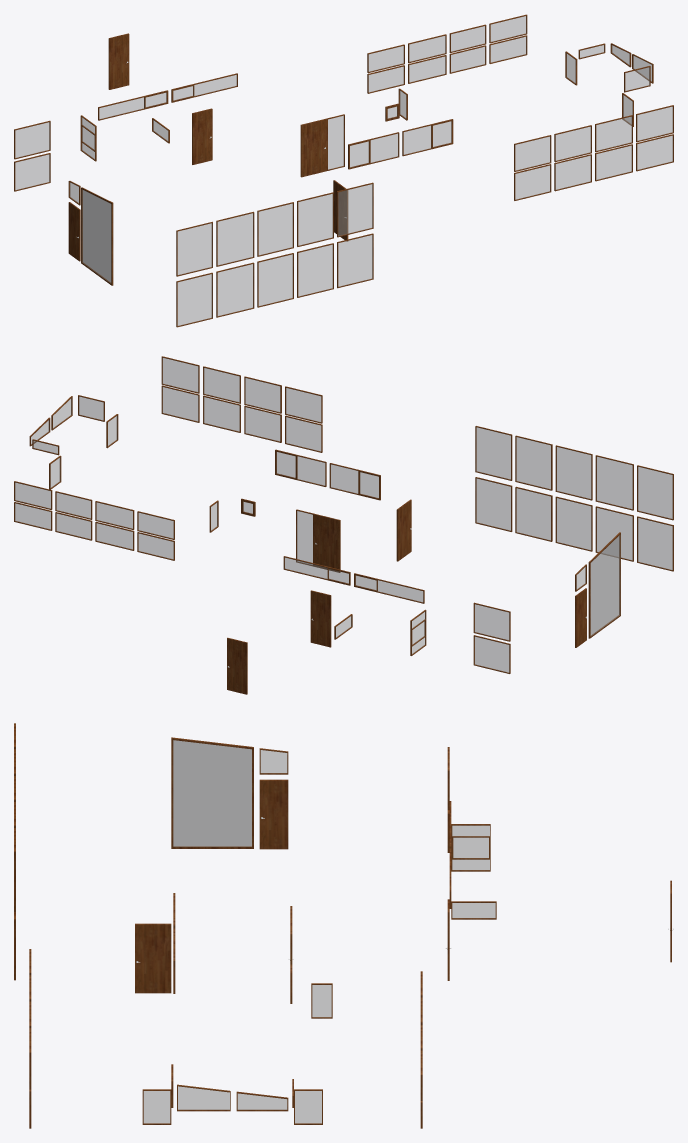
File: puertas y ventanas.glb
3 renders of one model, top to bottom at view 1: azimuth 30°, elevation 25°; view 2: azimuth 150°, elevation 25°; view 3: azimuth 270°, elevation 25°, orthographic. The views are drawn at different scales.
Visible parts, largest first — view 1: Grupo#30 (×8), Grupo#34 (×4), Grupo#32 (×2), Grupo#37 (×4), Grupo#50 (×2), 6585, Grupo#39 (×2), Grupo#35 (×2), Grupo#36 (×2), 6586, Grupo#1 (×2), Grupo#3 (×2) (+9 smaller); view 2: Grupo#30 (×8), Grupo#34 (×4), Grupo#32 (×2), Grupo#37 (×4), Grupo#50 (×2), 6585, Grupo#39 (×2), Grupo#36 (×2), Grupo#35 (×2), 6586, Grupo#1 (×2), Grupo#3 (×2) (+9 smaller); view 3: 6586, 6585, 15342, Grupo#41 (×2), 15343, 6523, 6061, 15336, Grupo#43, 6244, 6123, 9505.
Part boxes in pixels (x1,y1,x2,y2): Grupo#30 (×8): [176, 182, 373, 327]; Grupo#34 (×4): [514, 125, 591, 200]; Grupo#32 (×2): [216, 211, 254, 317]; Grupo#37 (×4): [367, 14, 527, 93]; Grupo#50 (×2): [348, 119, 453, 169]; 6585: [81, 189, 111, 283]; Grupo#39 (×2): [14, 120, 50, 191]; Grupo#35 (×2): [595, 115, 632, 181]; Grupo#36 (×2): [636, 105, 673, 171]; 6586: [83, 190, 110, 281]; Grupo#1 (×2): [98, 73, 237, 120]; Grupo#3 (×2): [408, 34, 446, 83]; Grupo#30 (×8): [475, 426, 673, 571]; Grupo#34 (×4): [244, 376, 322, 452]; Grupo#32 (×2): [595, 455, 633, 561]; Grupo#37 (×4): [14, 481, 174, 560]; Grupo#50 (×2): [275, 449, 380, 500]; 6585: [590, 535, 620, 636]; Grupo#39 (×2): [473, 602, 510, 673]; Grupo#36 (×2): [161, 356, 199, 422]; Grupo#35 (×2): [203, 366, 240, 432]; 6586: [591, 536, 618, 634]; Grupo#1 (×2): [283, 556, 424, 603]; Grupo#3 (×2): [95, 501, 134, 550]; 6586: [173, 740, 251, 846]; 6585: [173, 740, 251, 845]; 15342: [135, 923, 171, 993]; Grupo#41 (×2): [142, 1089, 322, 1124]; 15343: [259, 779, 288, 849]; 6523: [452, 825, 489, 870]; 6061: [178, 1086, 229, 1109]; 15336: [171, 737, 253, 848]; Grupo#43: [311, 983, 332, 1018]; 6244: [237, 1093, 287, 1109]; 6123: [452, 903, 495, 918]; 9505: [260, 750, 287, 773].
Bounding box in the file's own units: 21.87 × 3.7 × 17.2.
Materials: 370 (313 with a texture image).
